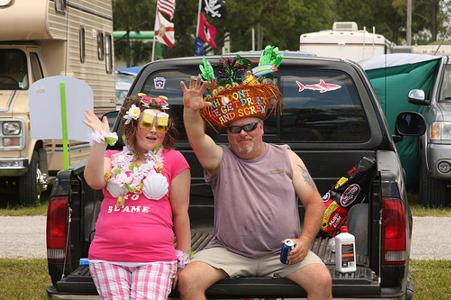person: (82, 95, 192, 300)
